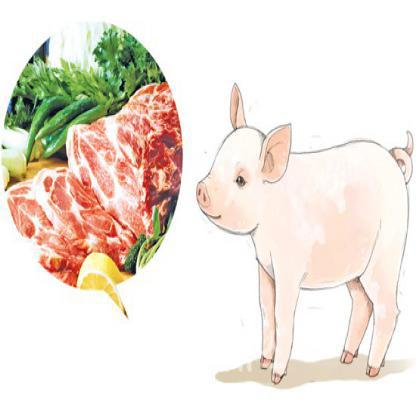pork: (14, 124, 178, 255)
